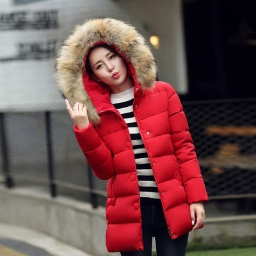face: (76, 36, 136, 94)
